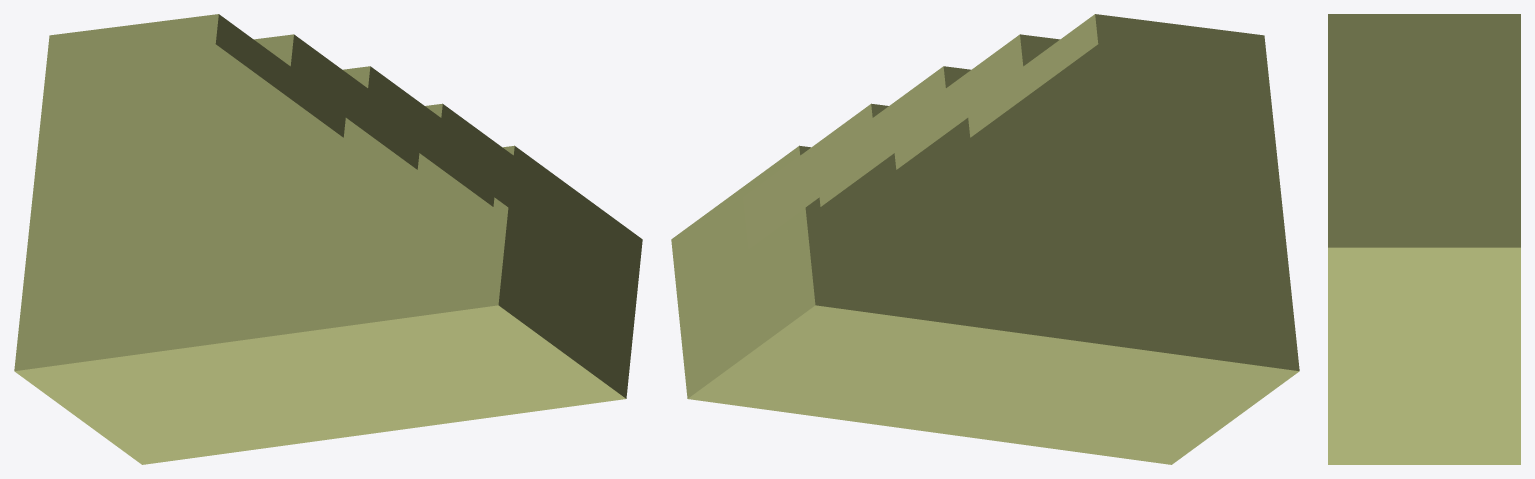
The picture shows the model from 3 angles, left to right: view 1: azimuth 30°, elevation 25°; view 2: azimuth 150°, elevation 25°; view 3: azimuth 270°, elevation 25°; orthographic projection. The views are drawn at different scales.
Parts seen in each view (by area): view 1: 0_3_2_2_3_1_1_0_3; view 2: 0_3_2_2_3_1_1_0_3; view 3: 0_3_2_2_3_1_1_0_3.
Part boxes in pixels (bbox=[...]): 0_3_2_2_3_1_1_0_3: bbox=[14, 14, 642, 464]; 0_3_2_2_3_1_1_0_3: bbox=[671, 14, 1299, 464]; 0_3_2_2_3_1_1_0_3: bbox=[1328, 14, 1520, 464].
Bounding box in the file's own units: 20.32 × 14.72 × 9.
